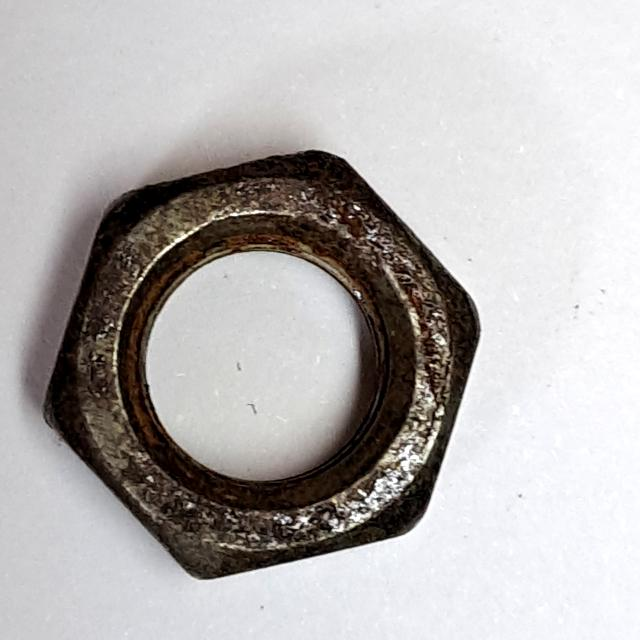Rust: (32, 136, 494, 595)
